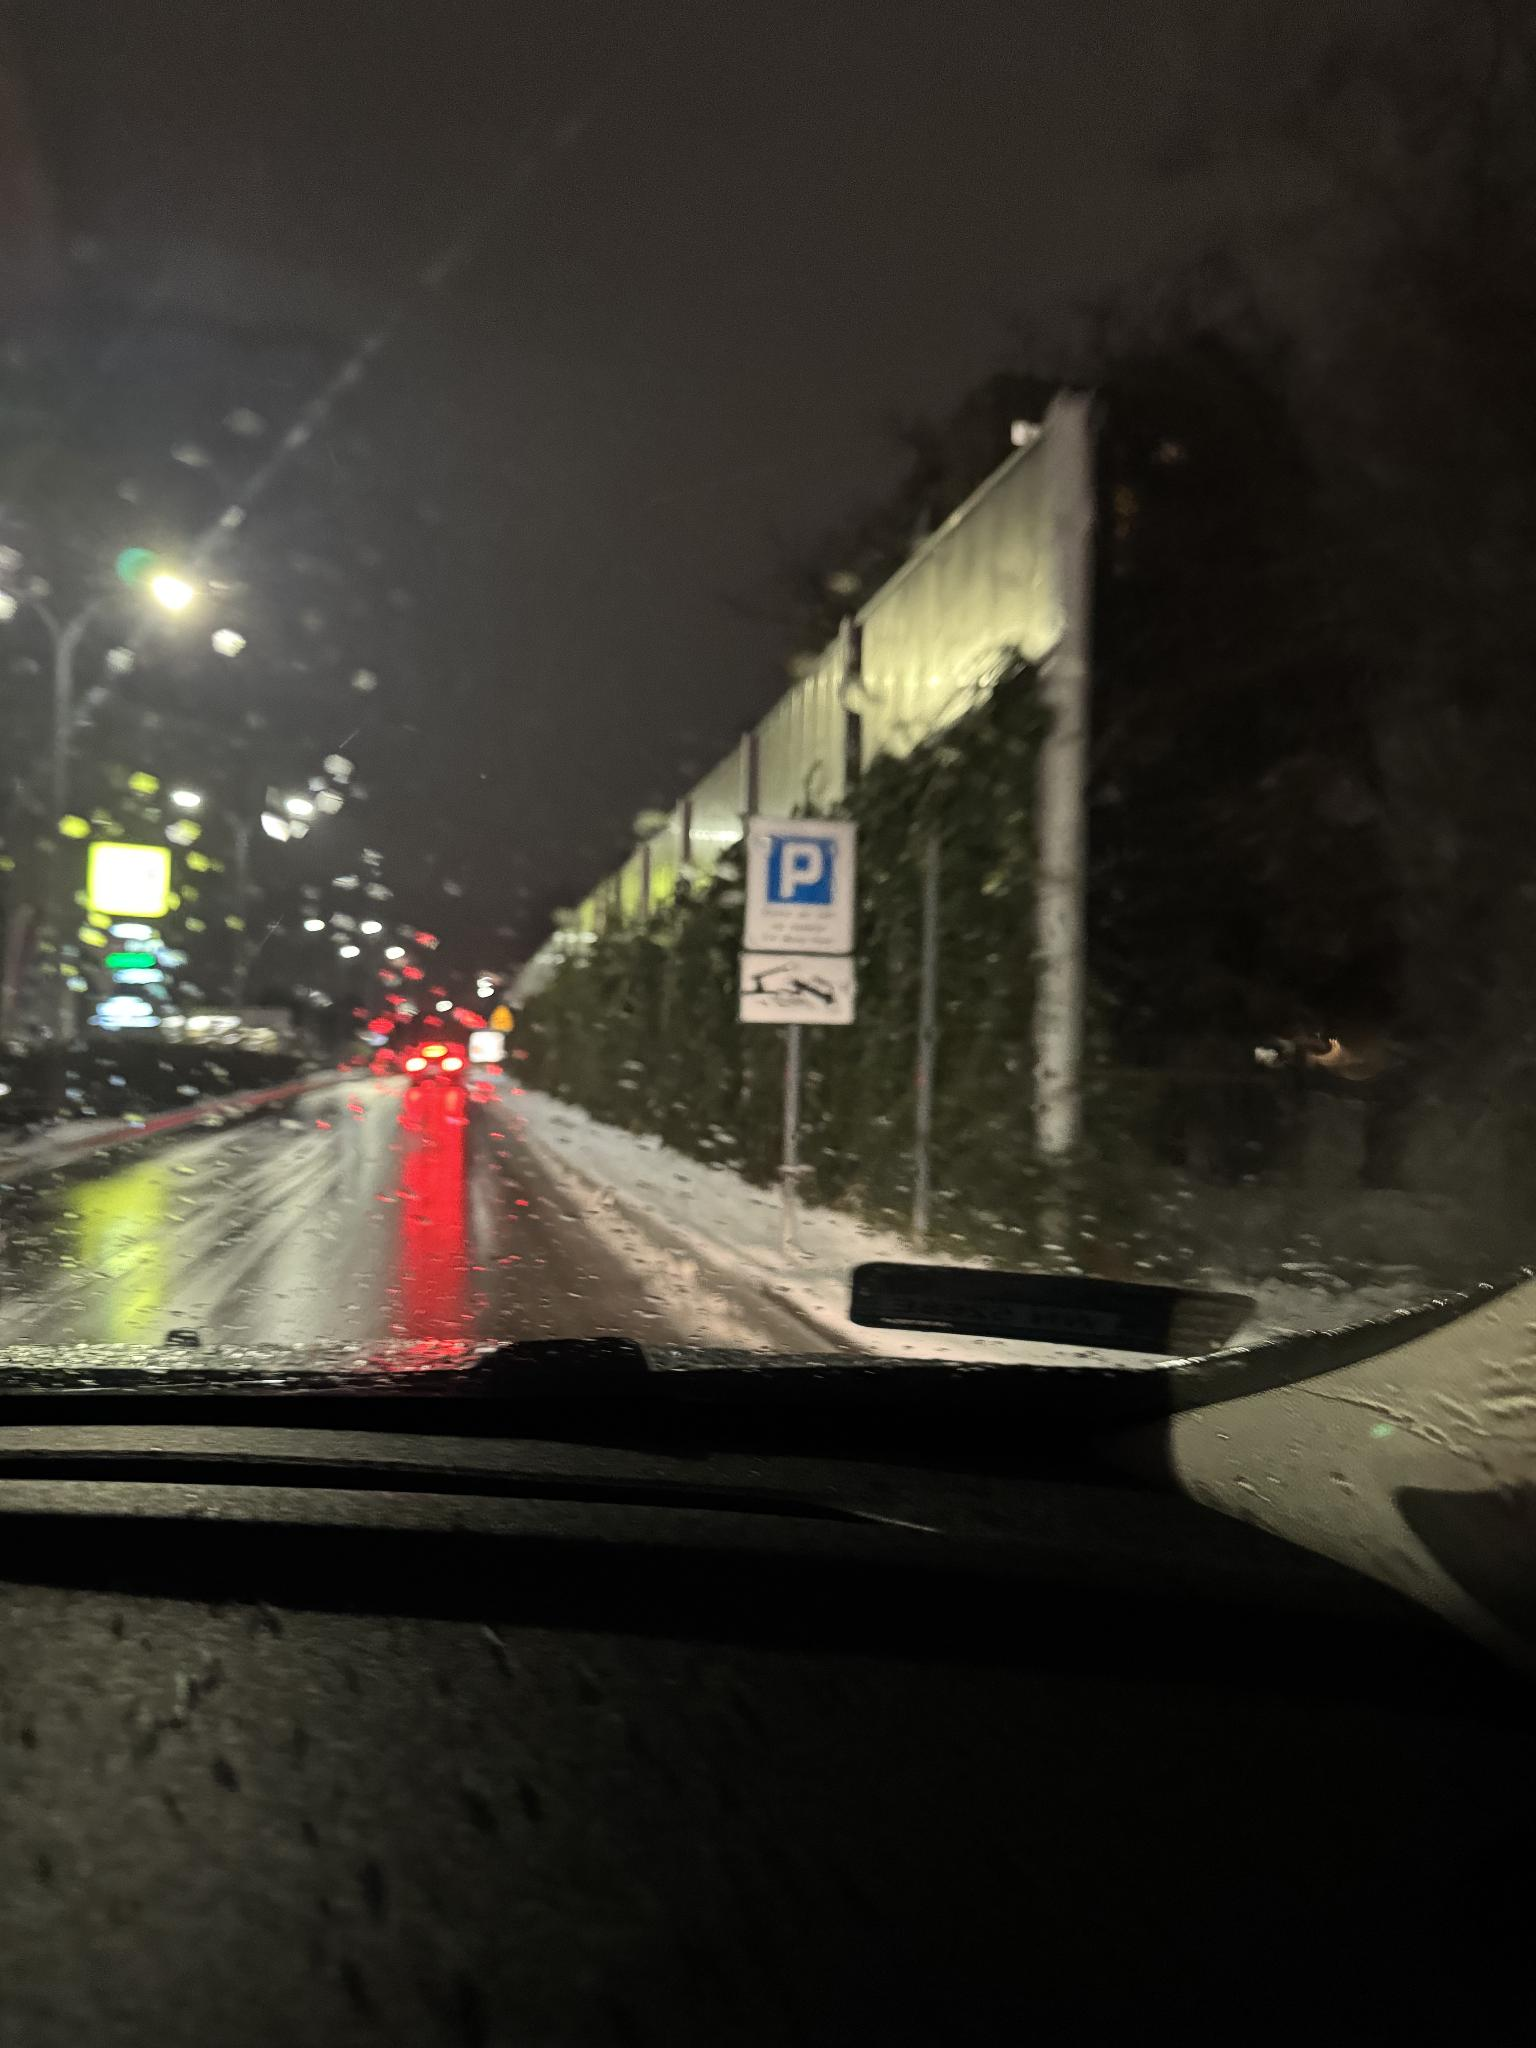information: (766, 837, 836, 905)
other: (742, 951, 852, 1022)
